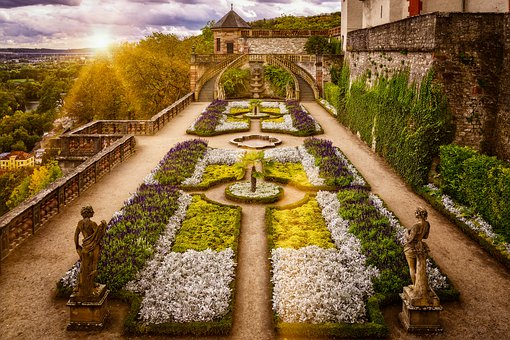field: (6, 60, 431, 326)
sky: (2, 1, 211, 47)
